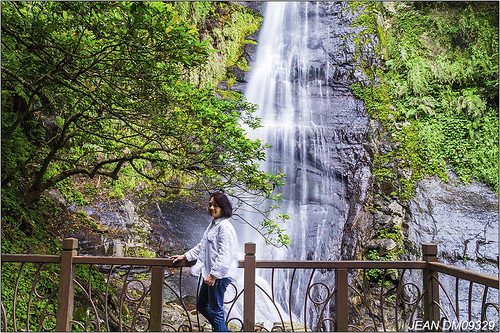wufengciWaterfall: (225, 5, 368, 277)
